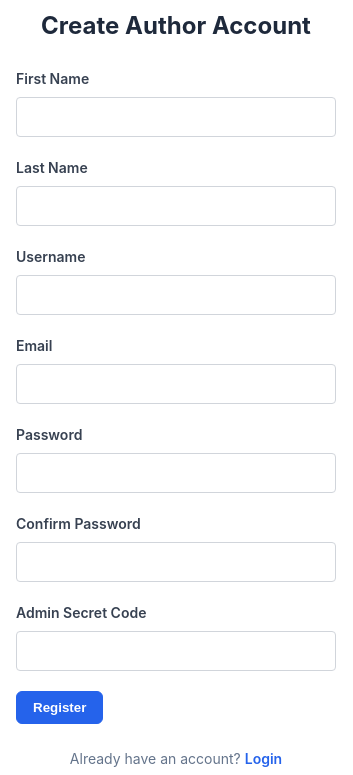
RegisterPage Integration › displays a general server error banner on 500 failure
This screenshot has width=353, height=775.
Step 1. Click the button "Register" → (60, 708), box [16,691,103,724]
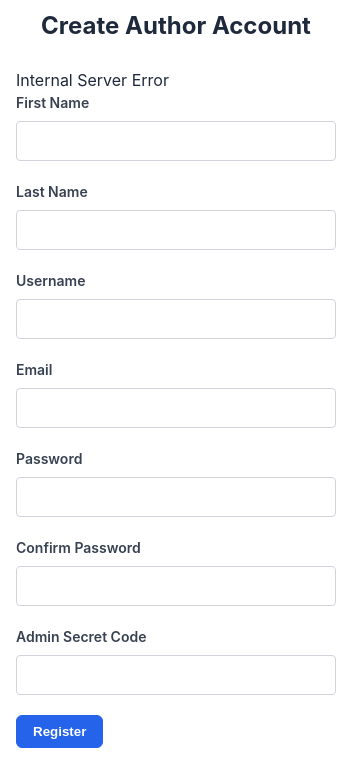
Result: the text "Internal Server Error" is shown at [16,70,169,90]
